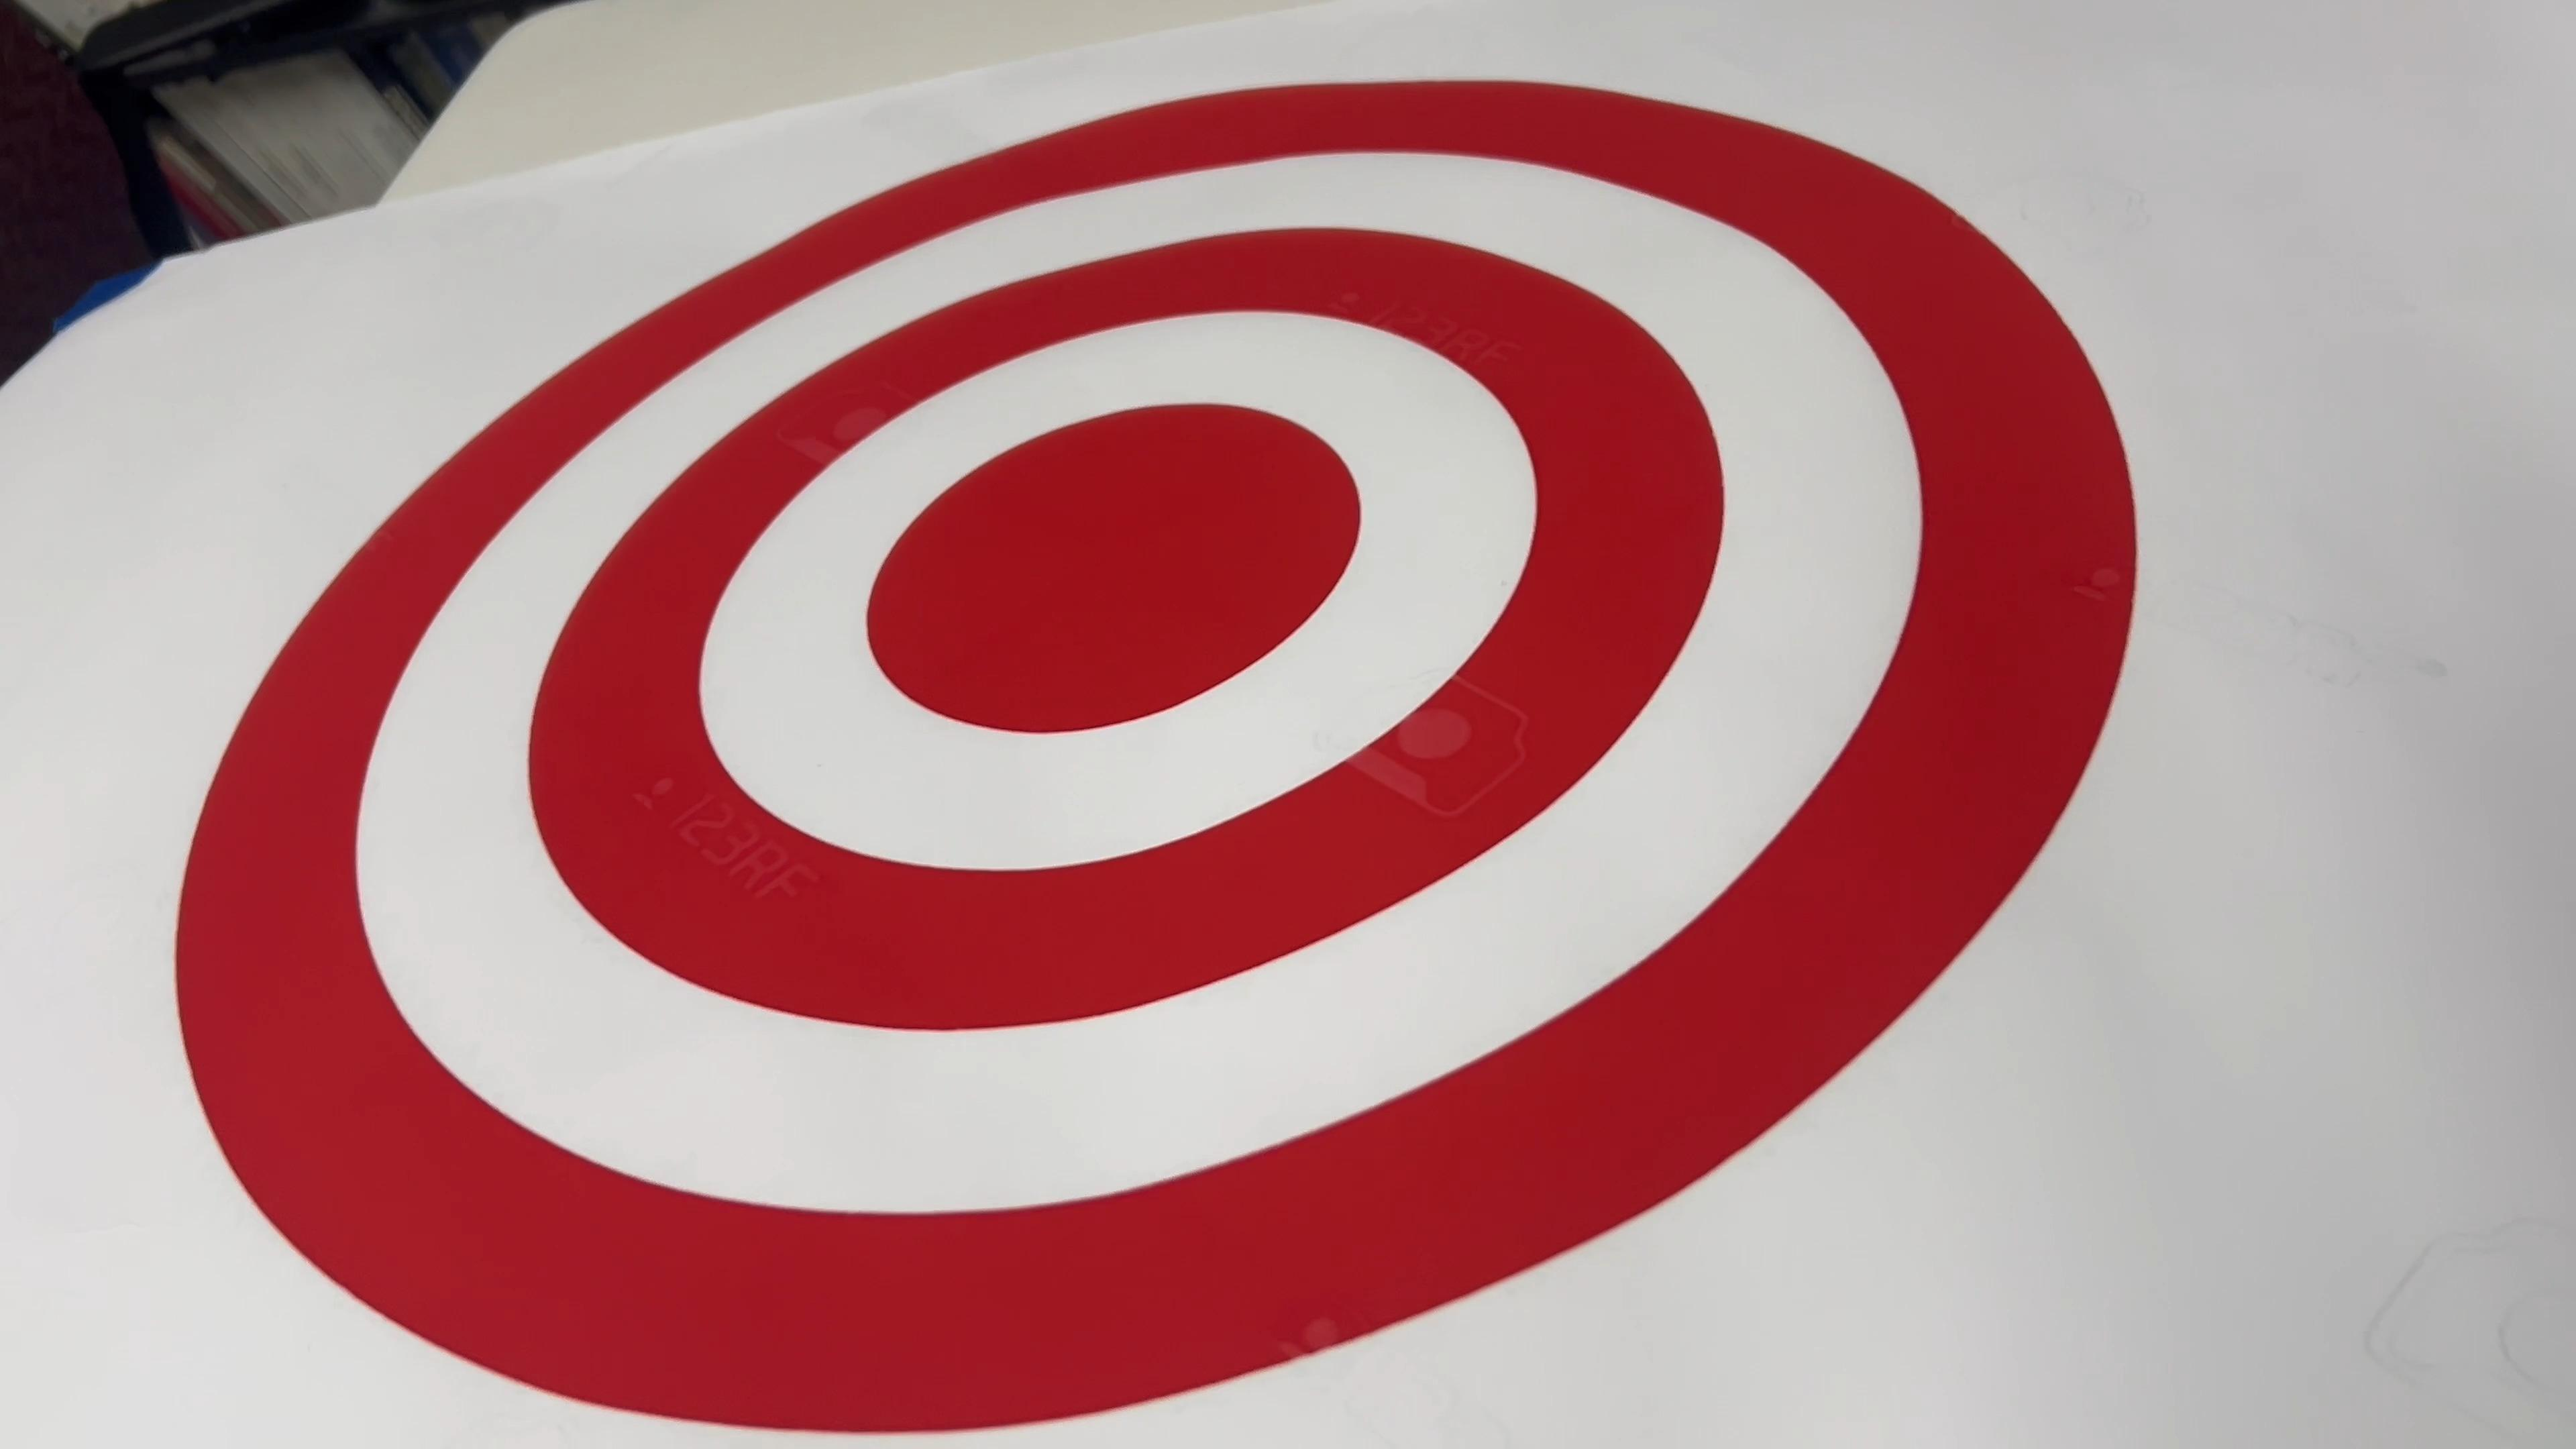target_red: (166, 55, 2157, 1449)
